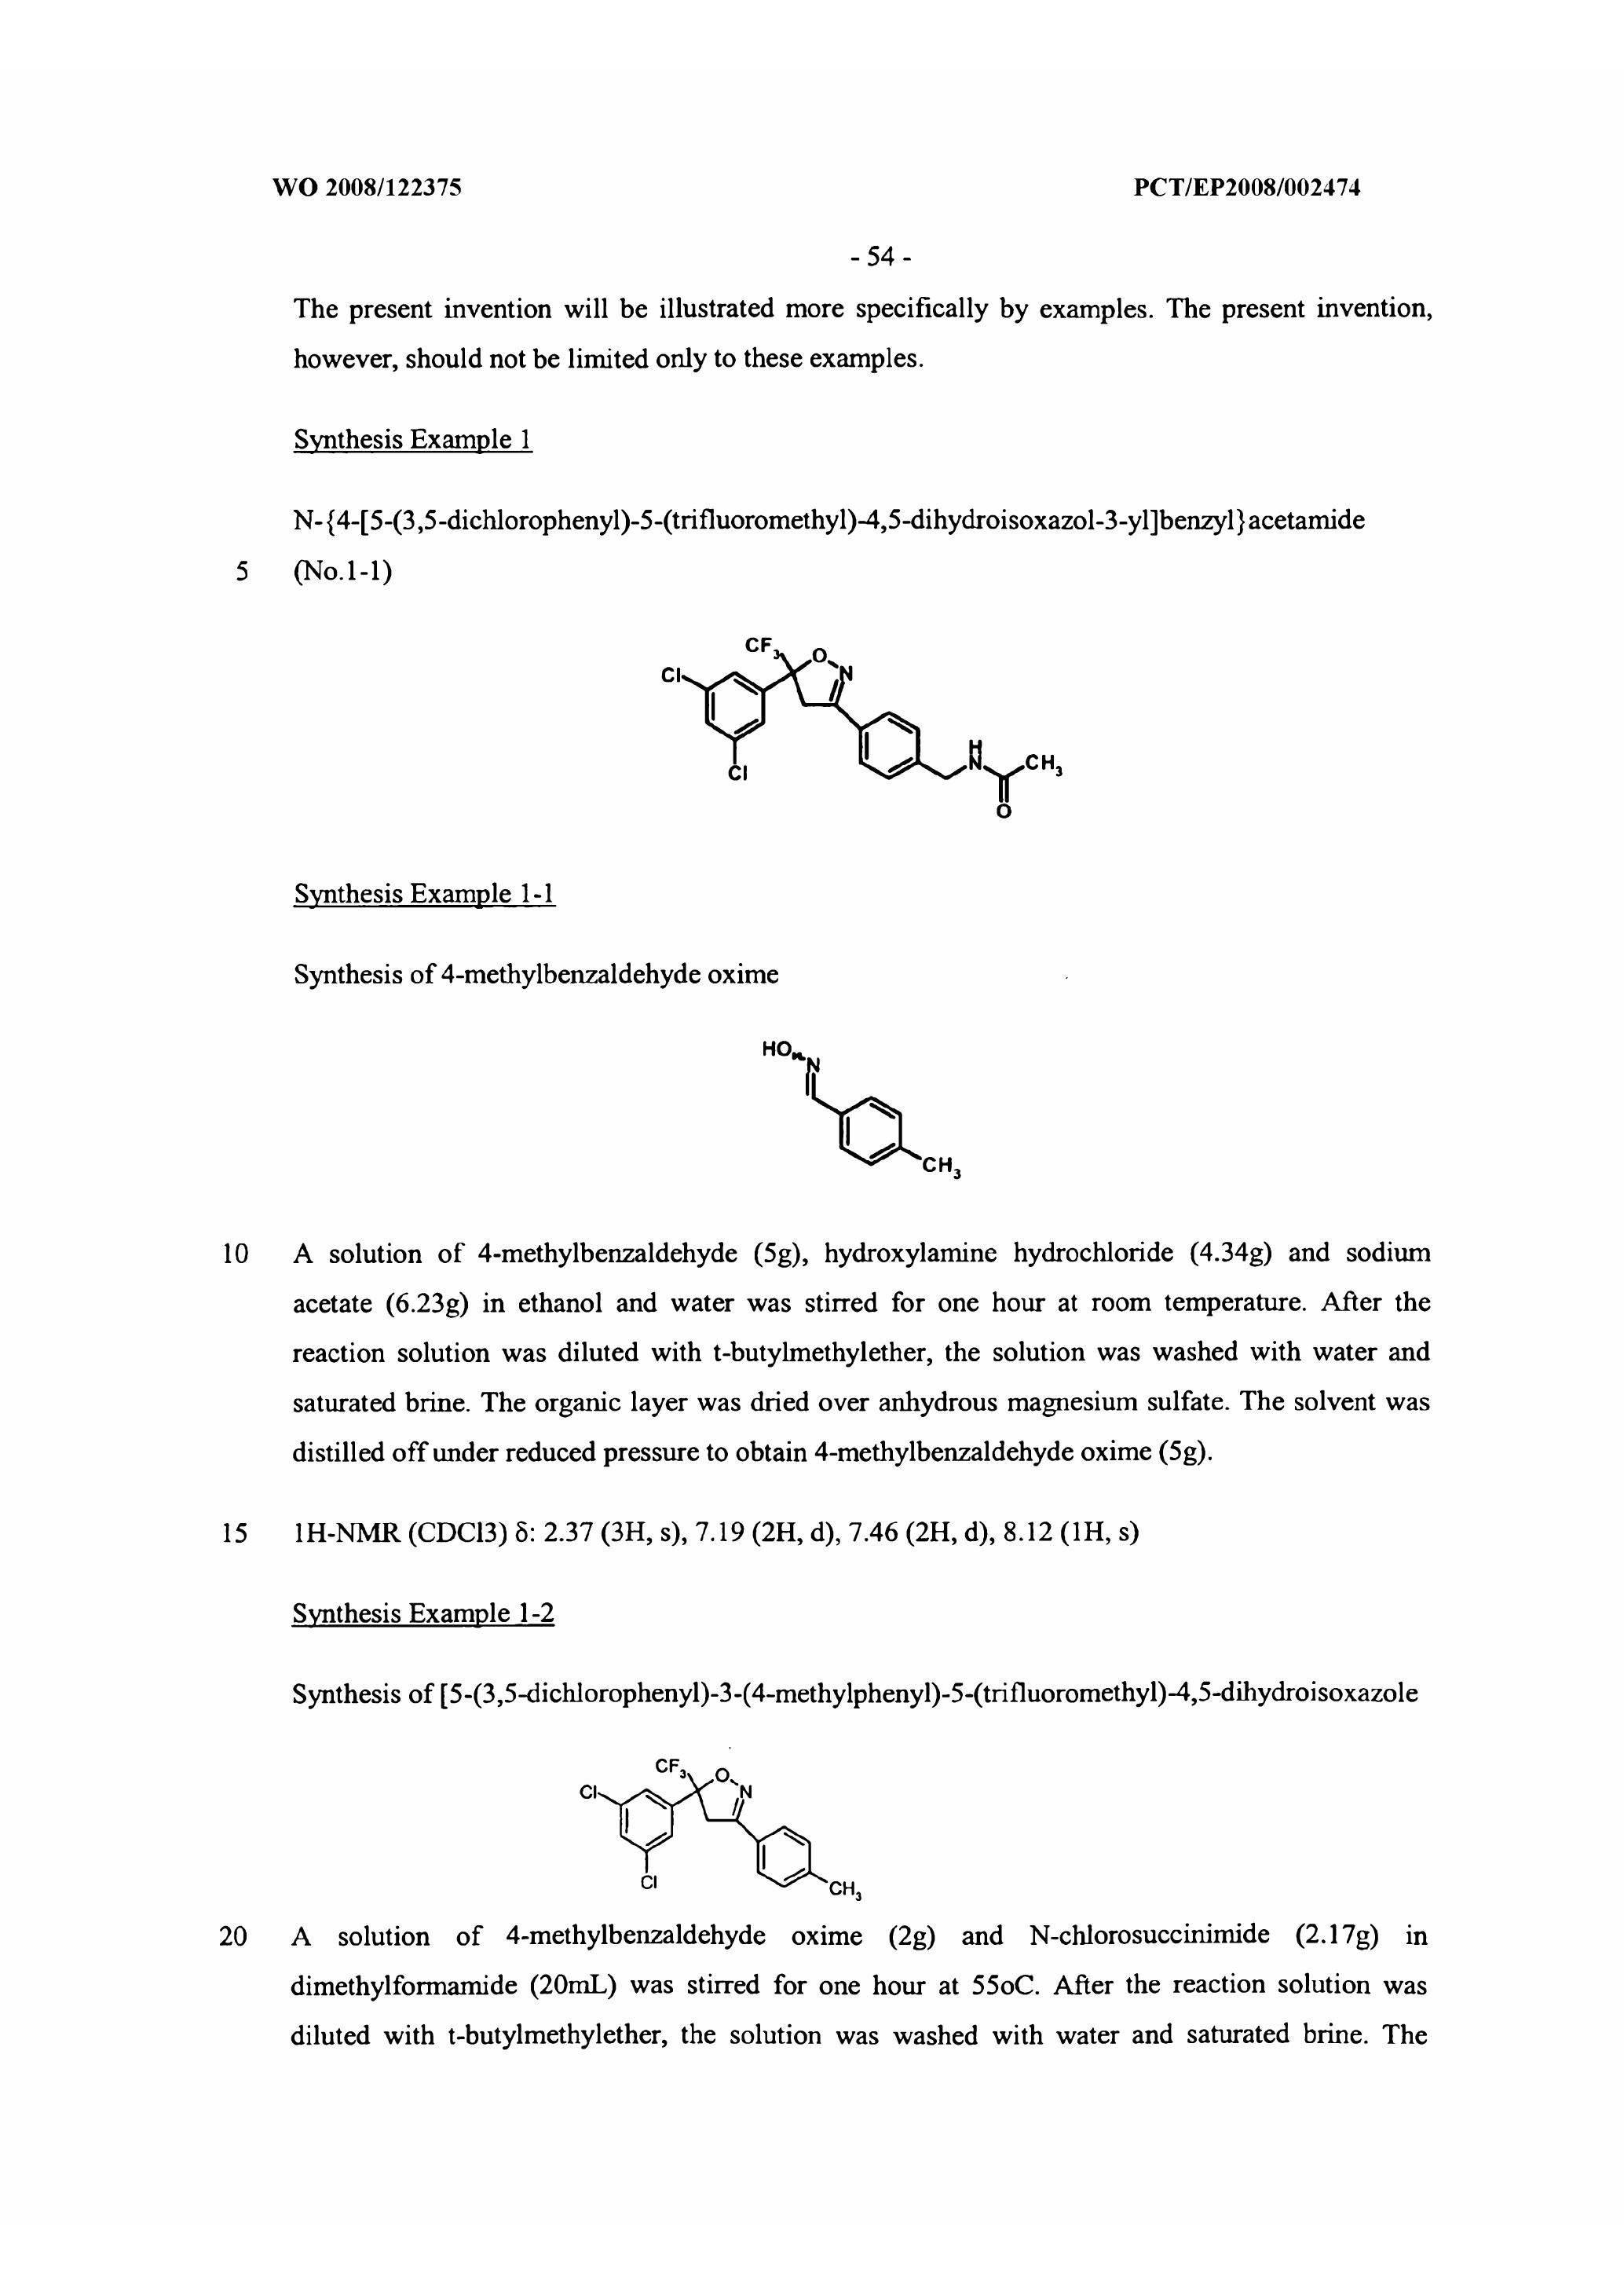intermediates: (747, 1013, 1127, 1218)
relevant-structures: (661, 594, 1116, 967), (506, 1749, 970, 1951)
